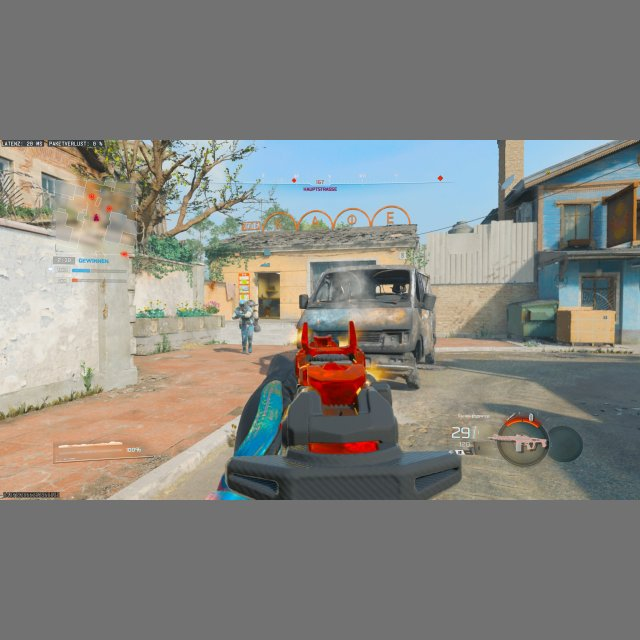head: (238, 300, 246, 309)
player: (232, 300, 256, 354)
